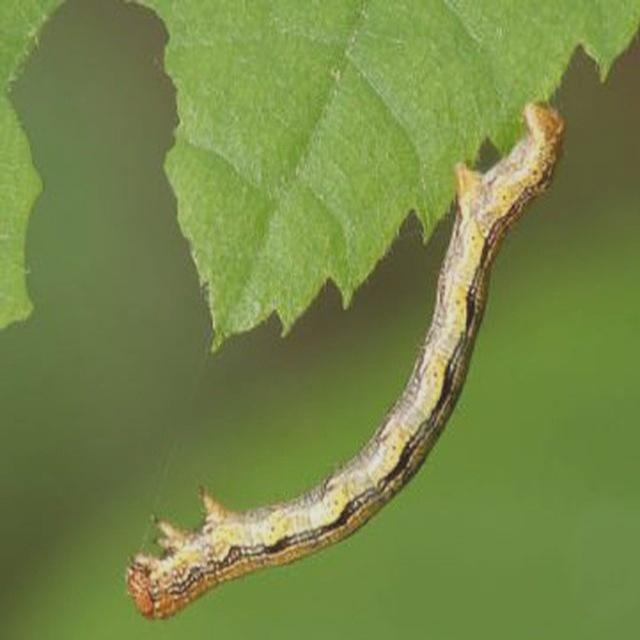gusano_cogollero: (126, 96, 566, 623)
